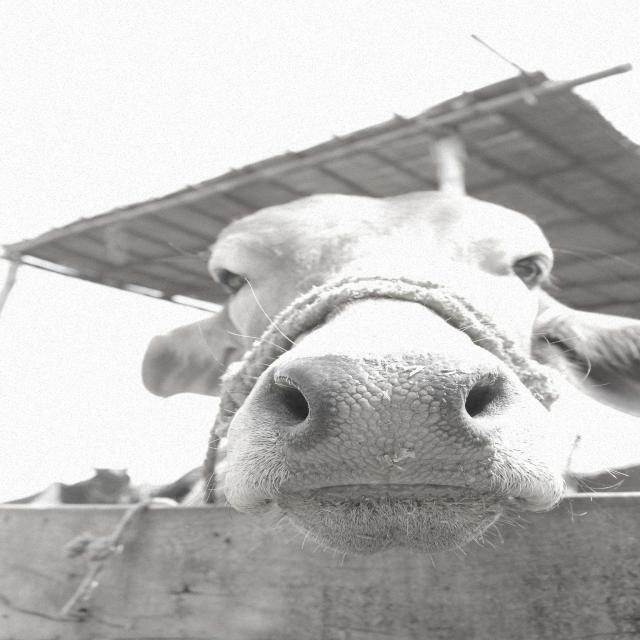muzzles: (263, 351, 529, 498)
